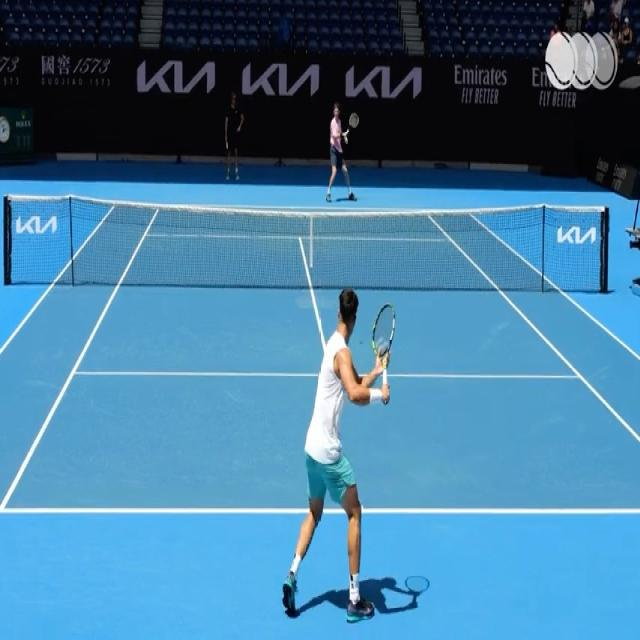forehand-ready: (286, 275, 402, 616)
